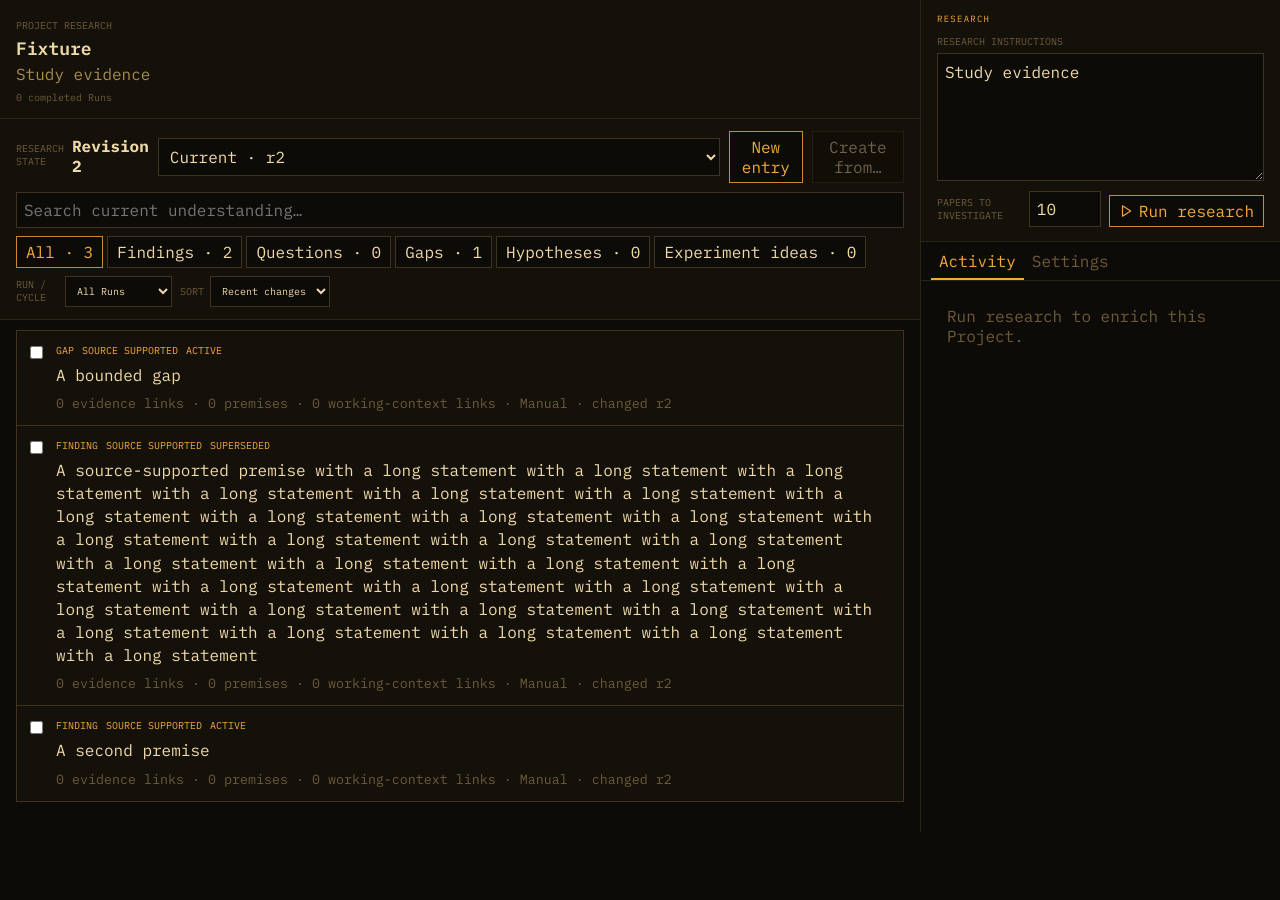
Scenario: relations show full accessible statements, not ids, even when list filters hide targets
The width and height of the screenshot is (1280, 900).
Step 1. Click the 1st button with class "entry-content" → (130, 350), box [43, 331, 903, 425]
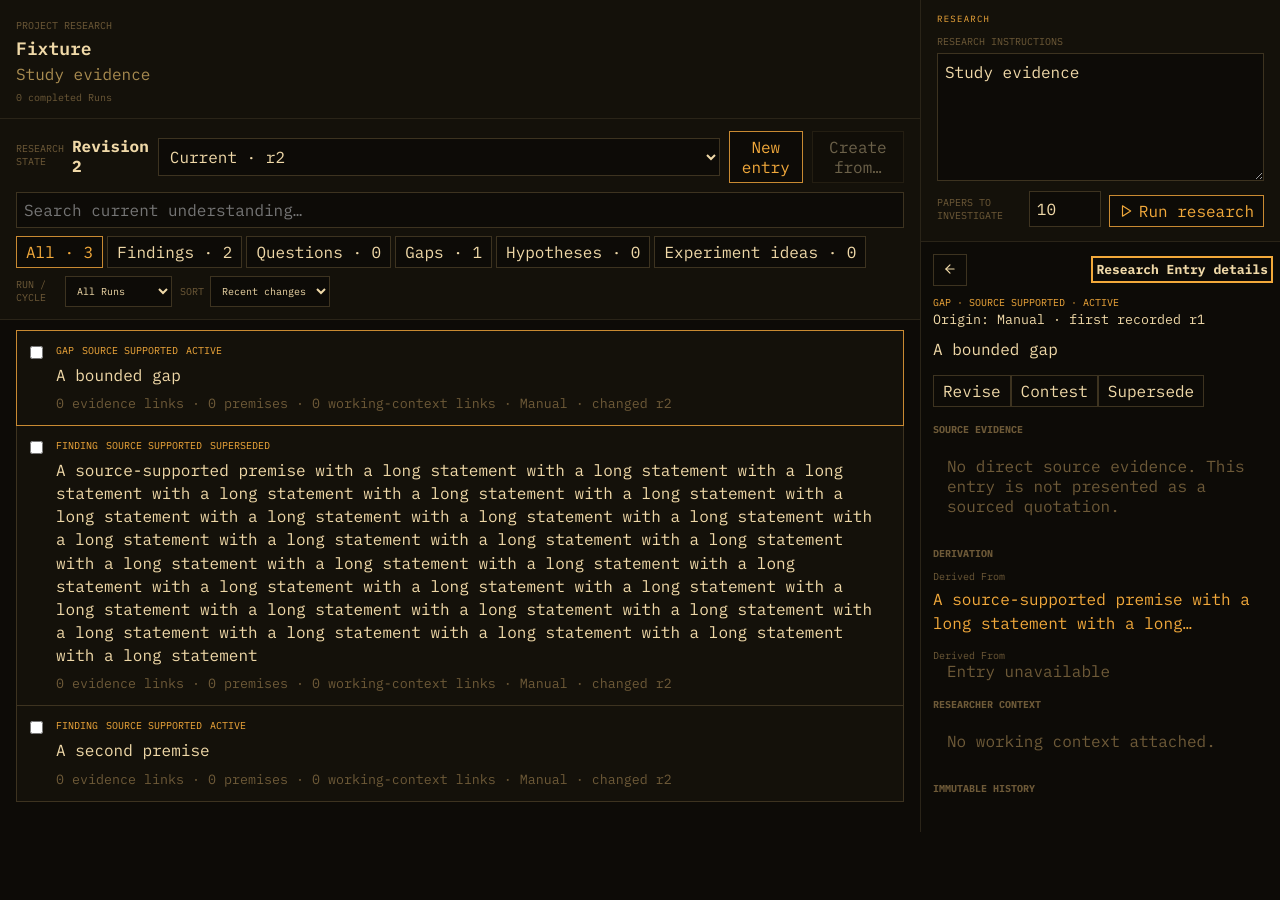
Now the text with class "detail-text" reads "A bounded gap", box [933, 340, 1058, 360]
Step 2. Type "A bounded gap" into the field named "Search Research State" → (460, 210), box [16, 192, 904, 228]
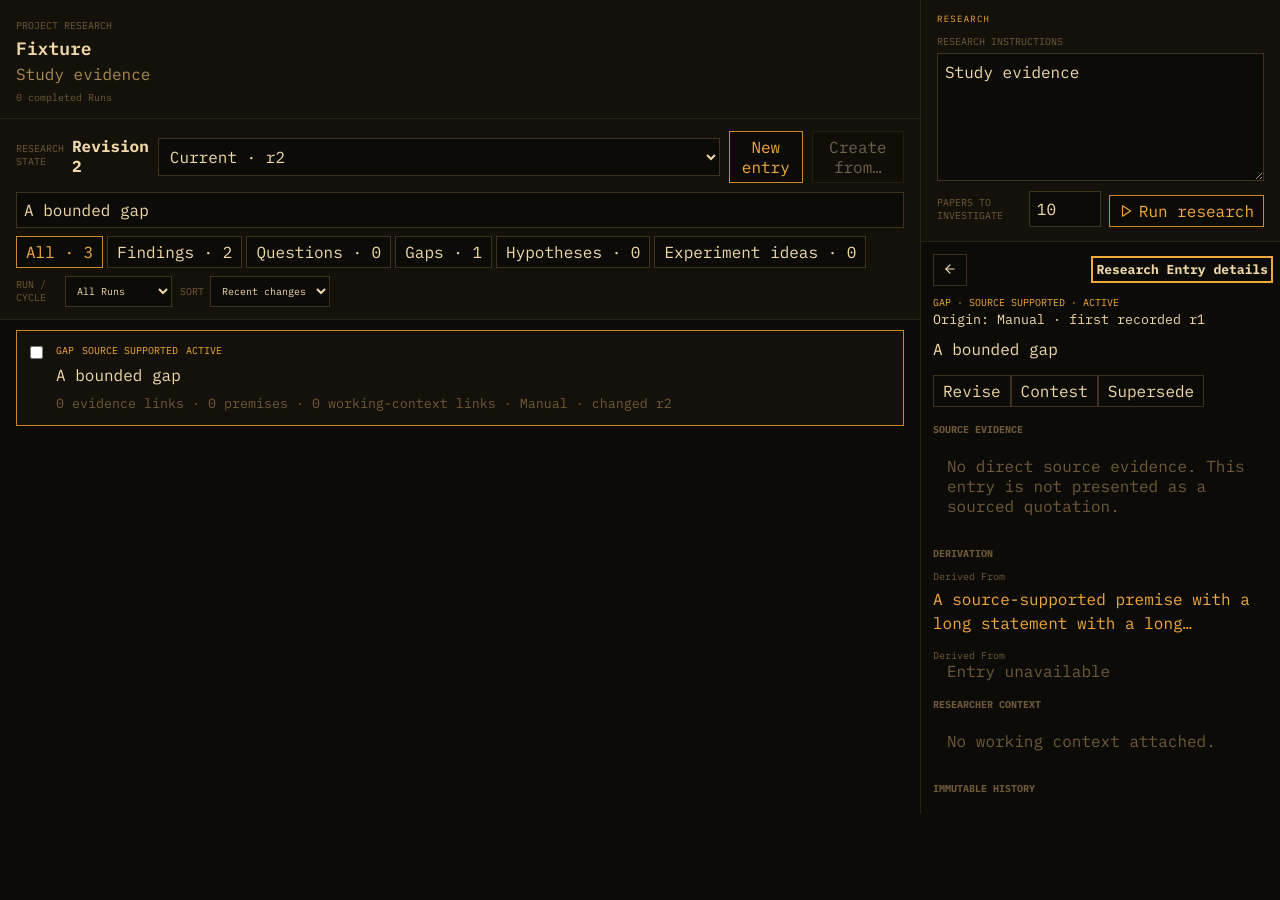
Expected: the button with class "relation-link" is shown, [933, 583, 1268, 639]
Now the element named "Entry relationships" is shown, box [933, 547, 1268, 682]
Now the number of buttons with class "entry-content" is 1, box [43, 331, 903, 425]
